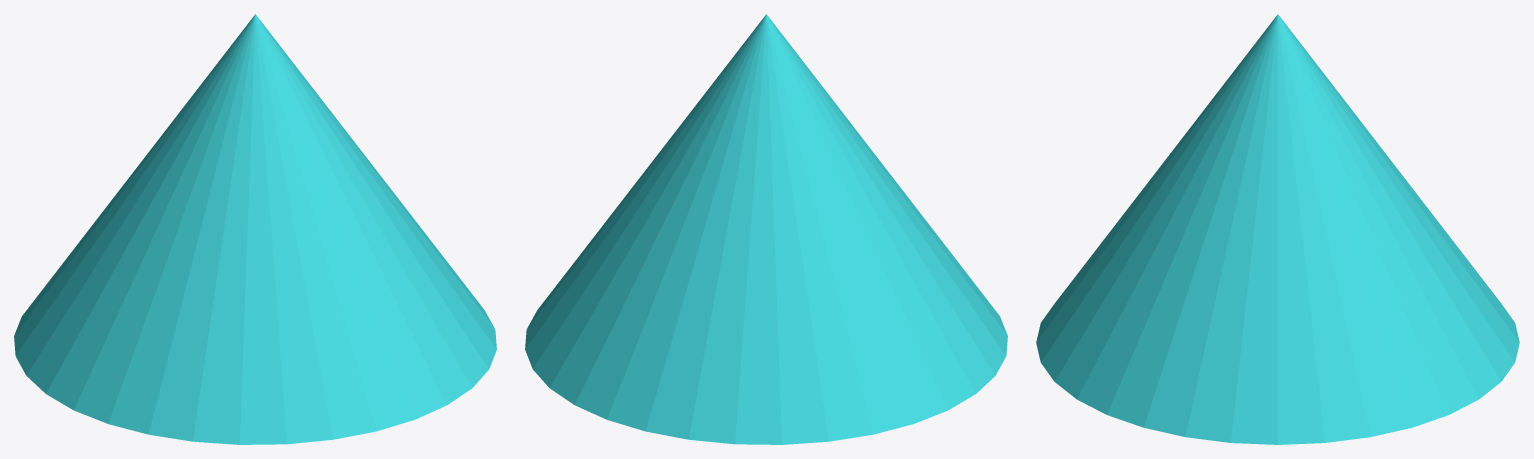
3 views of the same model, side by side, from view 1: azimuth 30°, elevation 25°; view 2: azimuth 150°, elevation 25°; view 3: azimuth 270°, elevation 25° (orthographic).
Parts seen in each view (by area): view 1: Cone; view 2: Cone; view 3: Cone.
Part boxes in pixels (<box>): Cone: <box>14,14,496,444</box>; Cone: <box>525,14,1007,444</box>; Cone: <box>1036,14,1519,444</box>.
Bounding box in the file's own units: 200 × 150 × 200.
